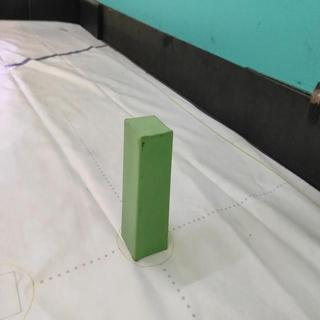greenbox: (121, 113, 174, 259)
